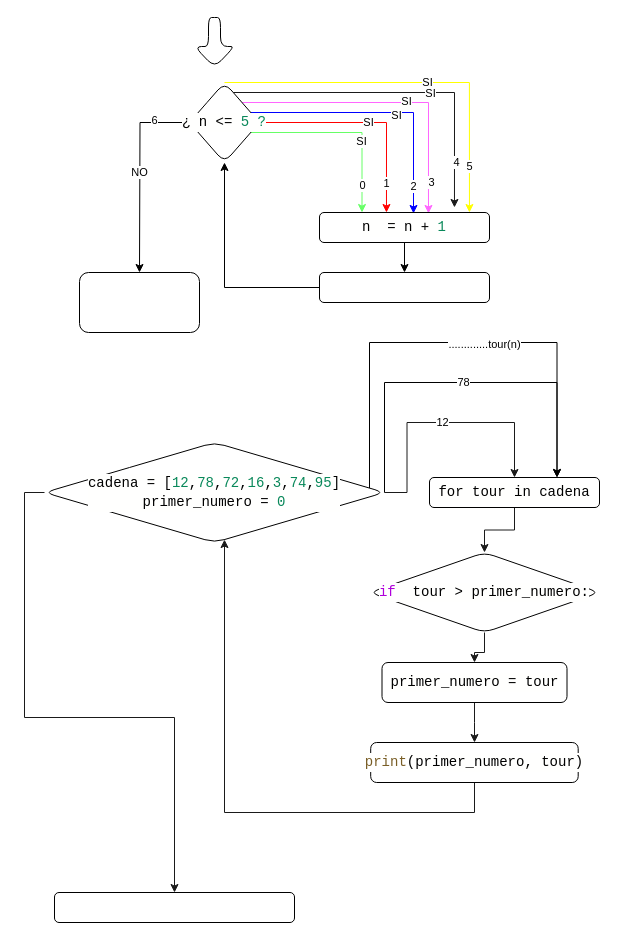
The diagram is 617 pixels wide and 940 high, and some of its shapes have lost their labels. The shapes that lost their labels are listed below. From the top down, each one's centre as x and y in pixels, then its label:
point 139,302: END
point 404,287: print ( 'Zero trip loop' )
point 174,907: print ( "Despues" ,primer_numero)
